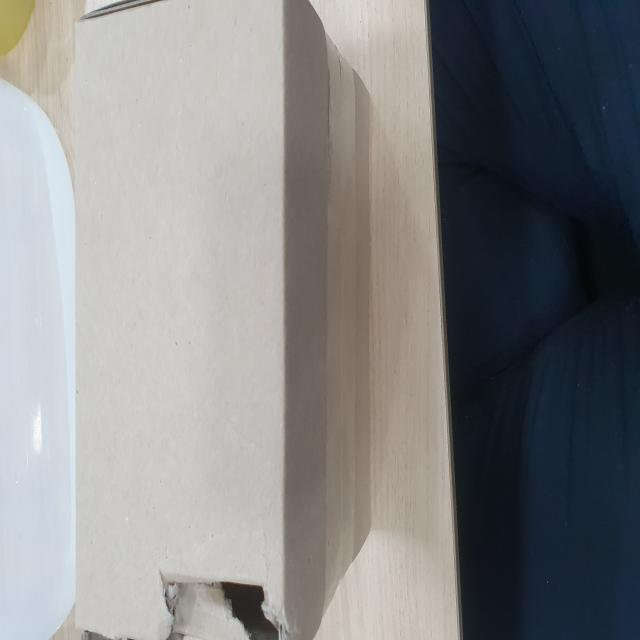hole: (153, 558, 282, 640)
